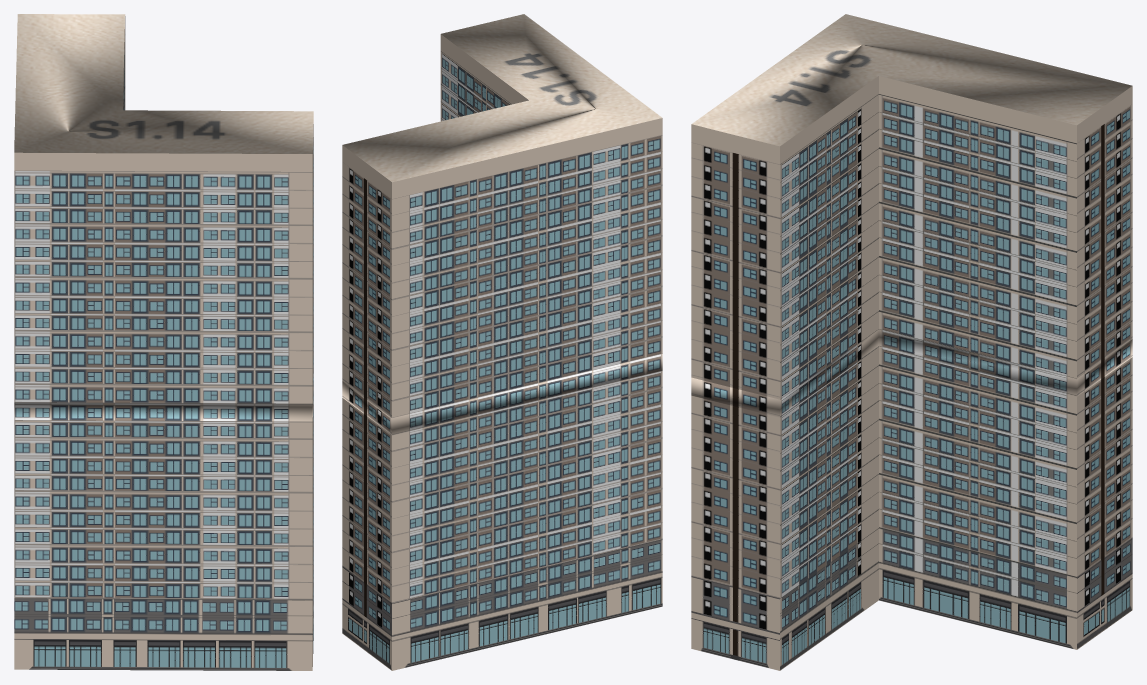
The picture shows the model from 3 angles, left to right: view 1: azimuth 30°, elevation 25°; view 2: azimuth 150°, elevation 25°; view 3: azimuth 270°, elevation 25°; orthographic projection. The views are drawn at different scales.
Visible parts, largest first — view 1: Asset3DLoader.sceneRoot; view 2: Asset3DLoader.sceneRoot; view 3: Asset3DLoader.sceneRoot.
Boxes of the visible parts, bbox=[...] form: Asset3DLoader.sceneRoot: bbox=[14, 14, 313, 670]; Asset3DLoader.sceneRoot: bbox=[342, 14, 662, 670]; Asset3DLoader.sceneRoot: bbox=[691, 14, 1132, 670].
Bounding box in the file's own units: 51.69 × 95.5 × 72.8.
1 material, 1 textured.
